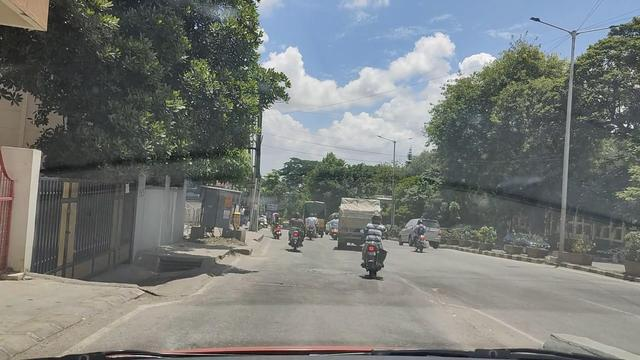HMV: (329, 191, 384, 249), (303, 196, 330, 239)
RoadDamages: (299, 257, 358, 283)
